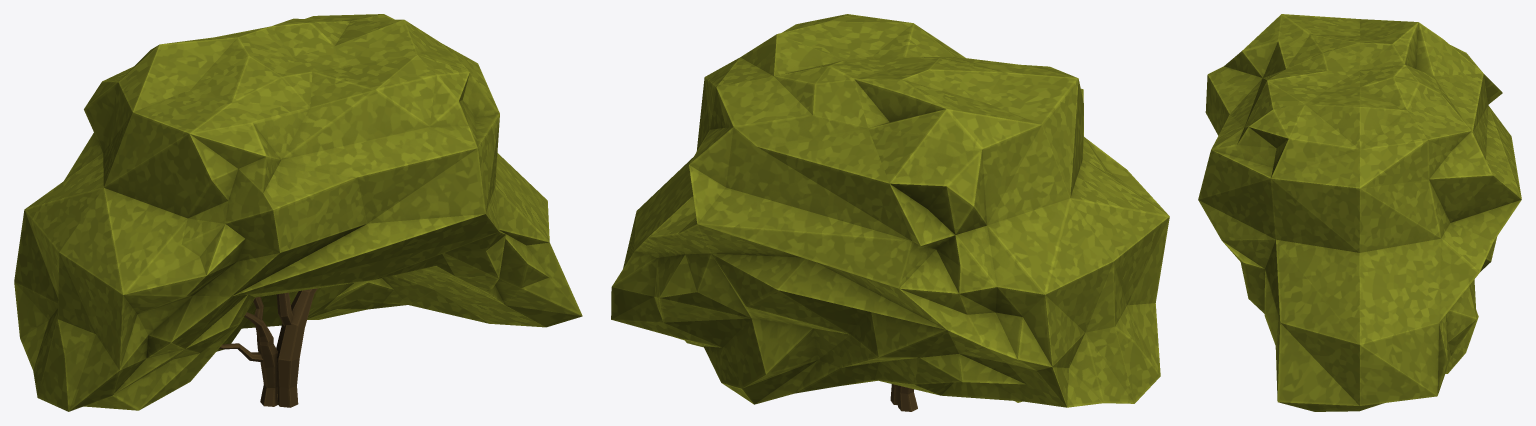
Rendered from BeechTree.obj.
The picture shows the model from 3 angles, left to right: view 1: azimuth 30°, elevation 25°; view 2: azimuth 150°, elevation 25°; view 3: azimuth 270°, elevation 25°; orthographic projection. The views are drawn at different scales.
Parts seen in each view (by area): view 1: BeechTree_mesh; view 2: BeechTree_mesh; view 3: BeechTree_mesh.
Boxes of the visible parts, bbox=[...] form: BeechTree_mesh: bbox=[14, 14, 582, 411]; BeechTree_mesh: bbox=[611, 14, 1169, 411]; BeechTree_mesh: bbox=[1198, 14, 1521, 411].
Size of the model in its own units: 13.97 by 9.23 by 9.21.
